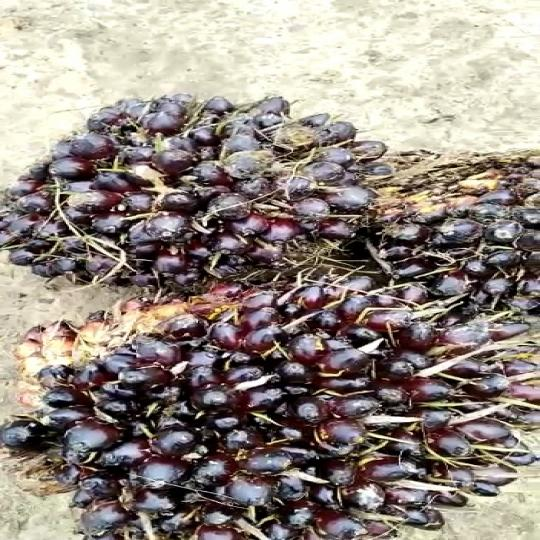mentah: (1, 296, 540, 540), (0, 87, 377, 284)
